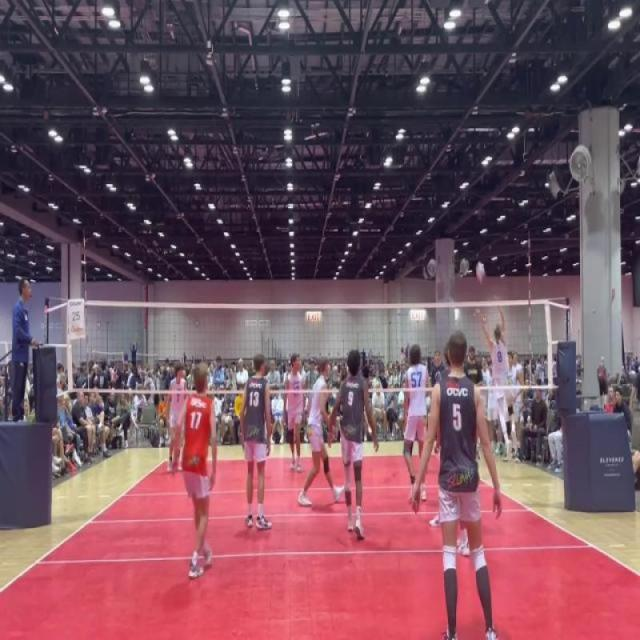volleyball: (474, 260, 487, 288)
